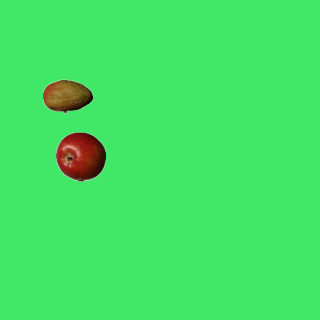Apple Braeburn: (55, 131, 105, 181)
Papaya: (42, 71, 92, 121)
